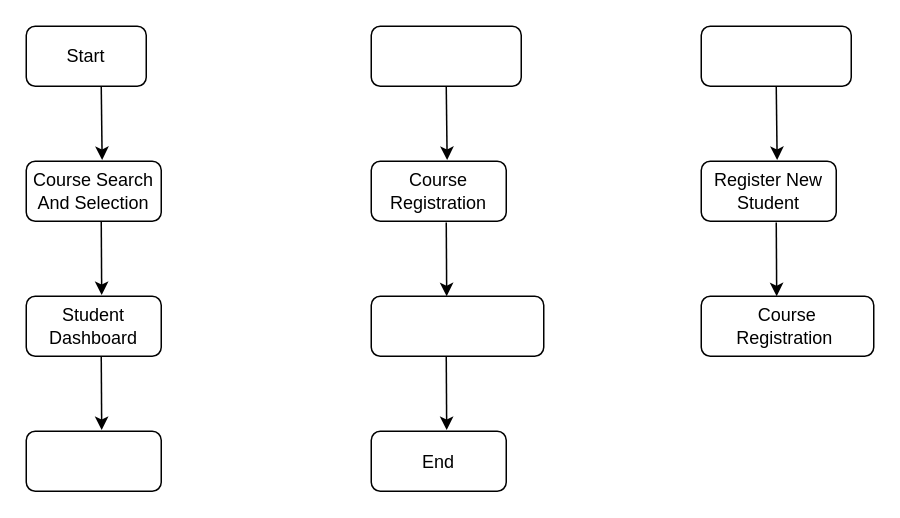
The diagram is 900 pixels wide and 518 high, and some of its shapes have lost their labels. Each missing label, with the centre of its shape:
Admin Dashboard: the point at 93,460
Course Registration Confirmation: the point at 457,325
Existing Student Login: the point at 445,55
New Student Registration: the point at 775,55
